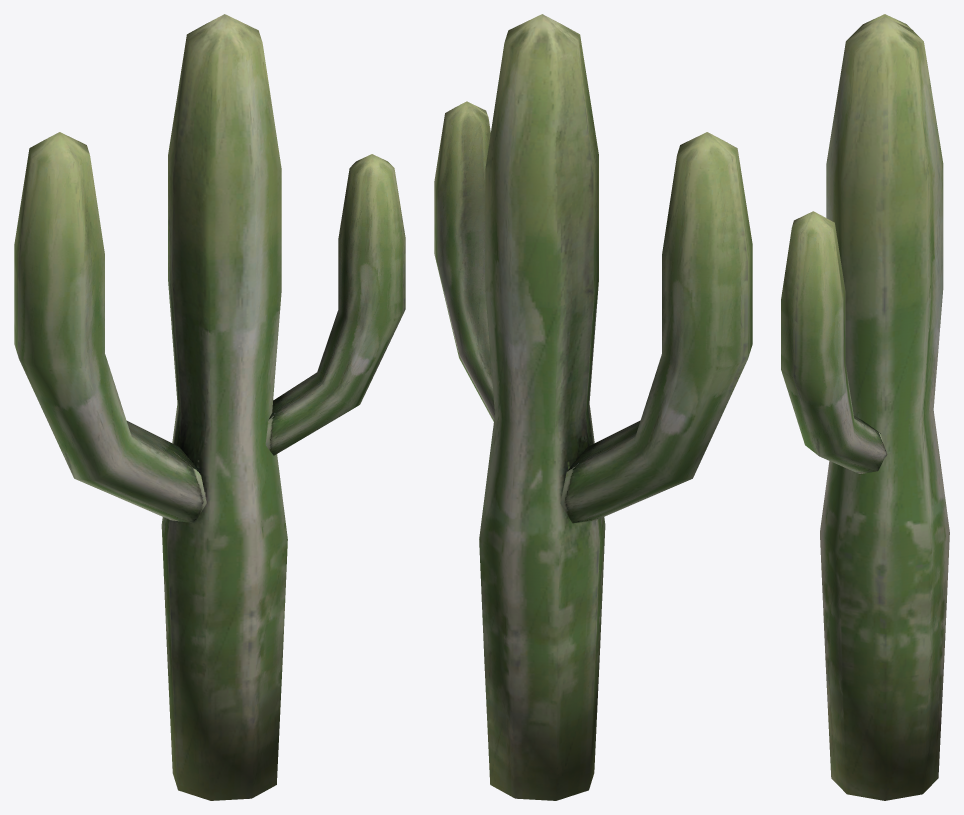
Rendered from Kaktus.gltf.
3 renders of one model, left to right at view 1: azimuth 30°, elevation 25°; view 2: azimuth 150°, elevation 25°; view 3: azimuth 270°, elevation 25°, orthographic.
Parts seen in each view (by area): view 1: Kaktus; view 2: Kaktus; view 3: Kaktus.
Part boxes in pixels (bbox=[...]): Kaktus: bbox=[14, 14, 405, 800]; Kaktus: bbox=[434, 14, 752, 800]; Kaktus: bbox=[781, 14, 949, 800].
Size of the model in its own units: 2.01 by 4.25 by 0.8548.
1 material, 1 textured.
